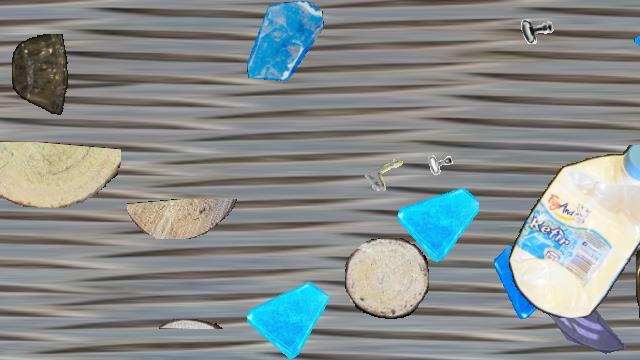glass: (541, 275, 625, 359), (247, 277, 329, 359), (397, 180, 479, 262), (245, 1, 325, 81), (494, 243, 570, 319), (634, 1, 640, 93)
metal: (361, 141, 421, 201), (415, 151, 465, 201), (517, 9, 557, 49), (0, 298, 10, 352)
plastic: (508, 145, 640, 317), (12, 34, 68, 116), (636, 245, 640, 359)
wood: (0, 142, 120, 208), (345, 238, 429, 318), (127, 199, 239, 239), (159, 319, 223, 329)
